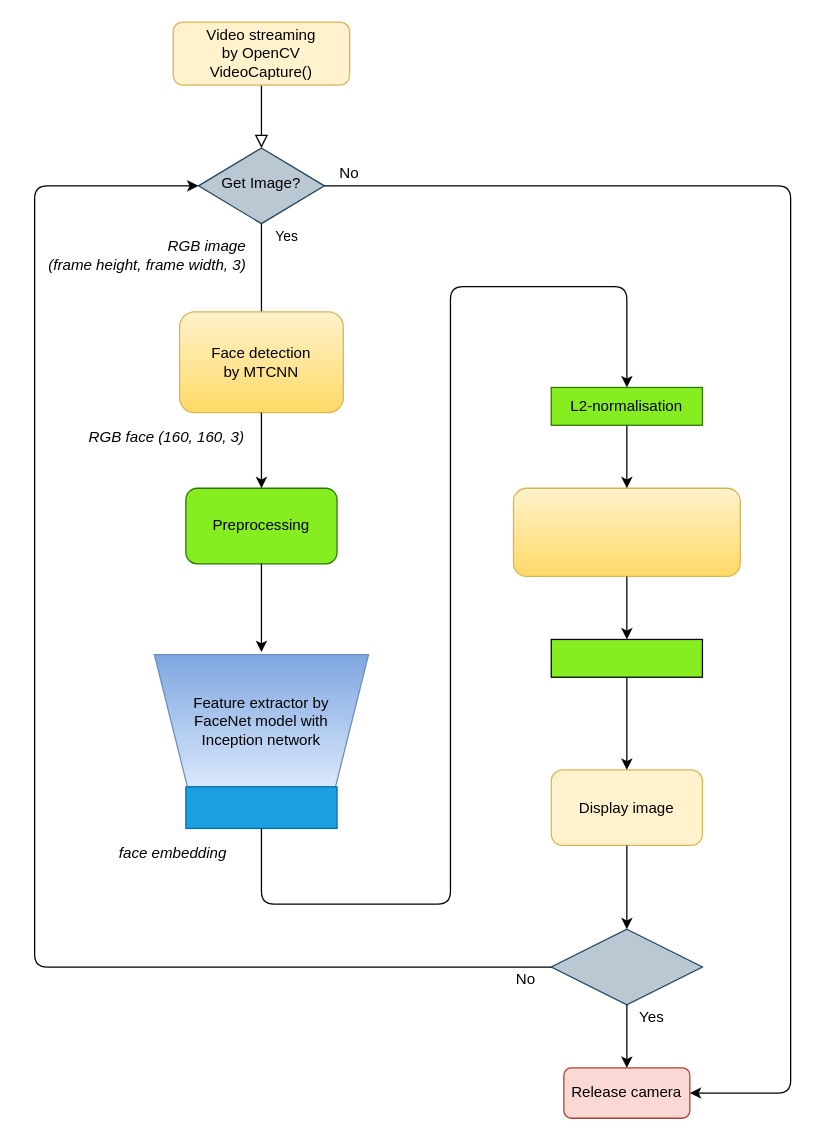
The diagram is 823 pixels wide and 1140 high, and some of its shapes have lost their labels. The centre of each missing label's shape, as x and y in pixels:
'q' key pressed?: point 626,966
128-dimensional face representation: point 261,807
Label encoding: point 626,657
SVM classifier: point 626,531
